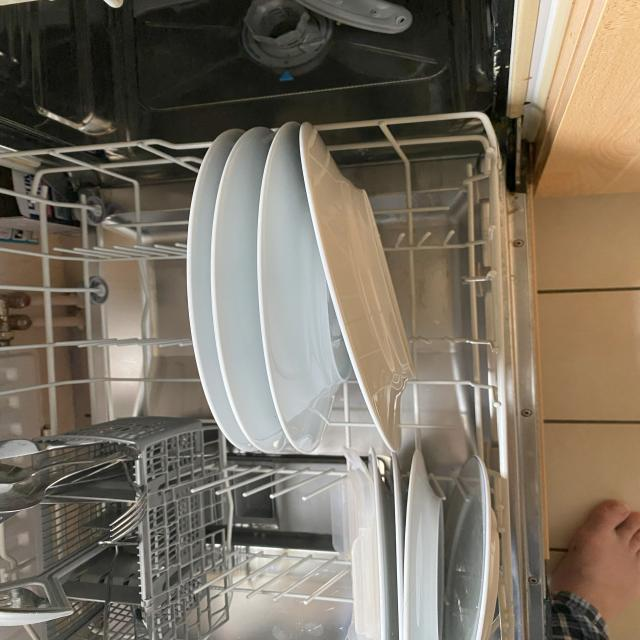clutery_bin: (17, 436, 143, 640)
empty_slot: (13, 164, 179, 427), (183, 455, 357, 625), (385, 151, 487, 441)
